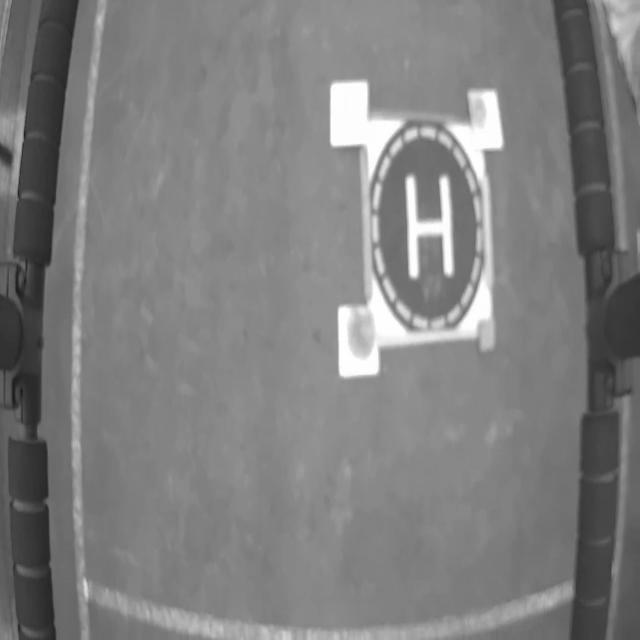Helipad: (405, 173, 455, 278)
